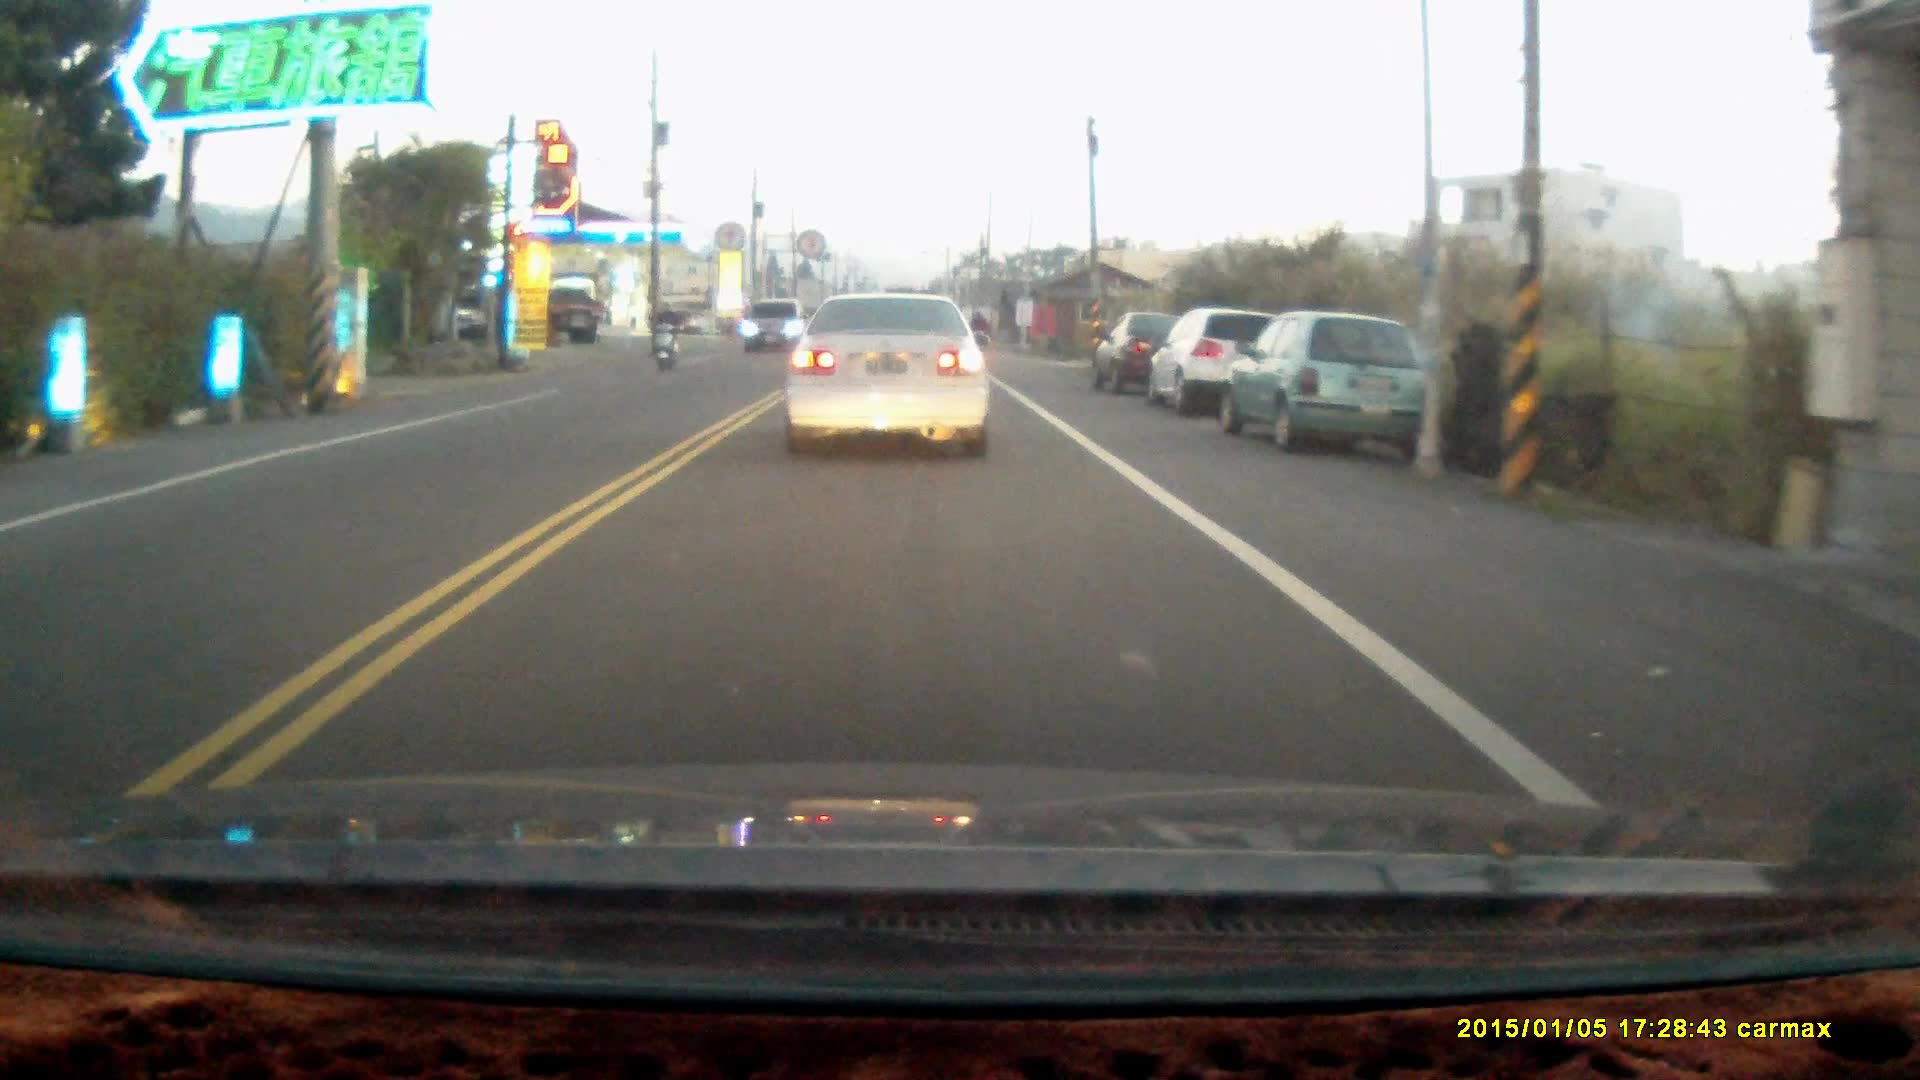rider: (649, 300, 680, 372)
vehicle: (785, 289, 996, 462), (1213, 310, 1435, 456), (1155, 307, 1275, 417), (1096, 311, 1192, 395), (746, 302, 810, 354)
